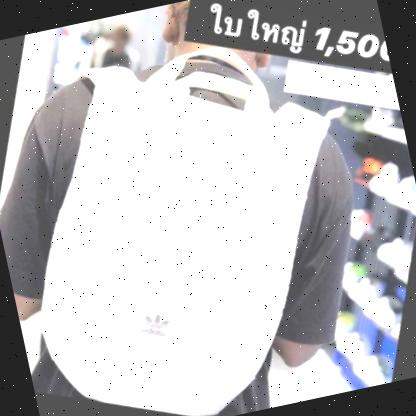bag: (0, 20, 373, 416)
